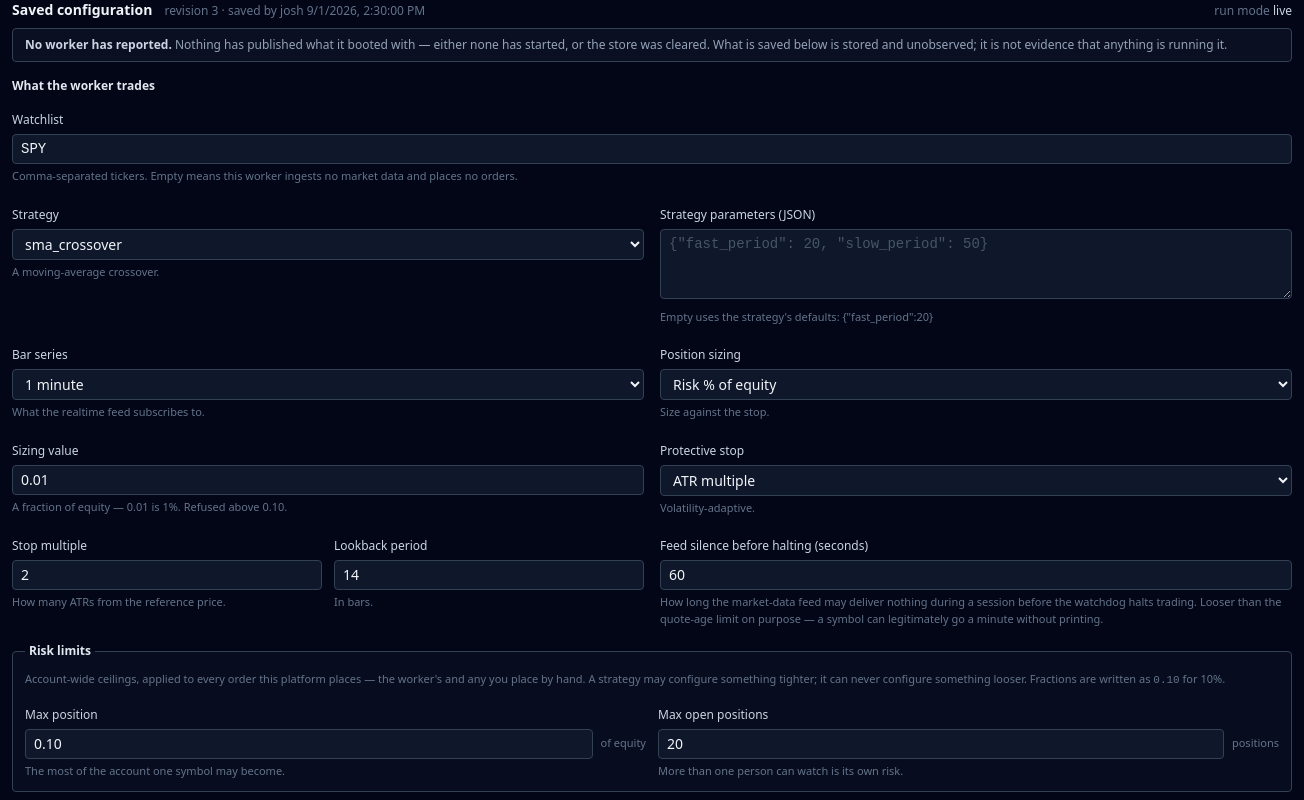
Test: the risk limits › refuses an emptied box by name rather than posting an empty string
The image size is (1304, 800).
Clear the field labelled "Max open positions": (941, 744) [658,728,1224,758]
(page scrolled)
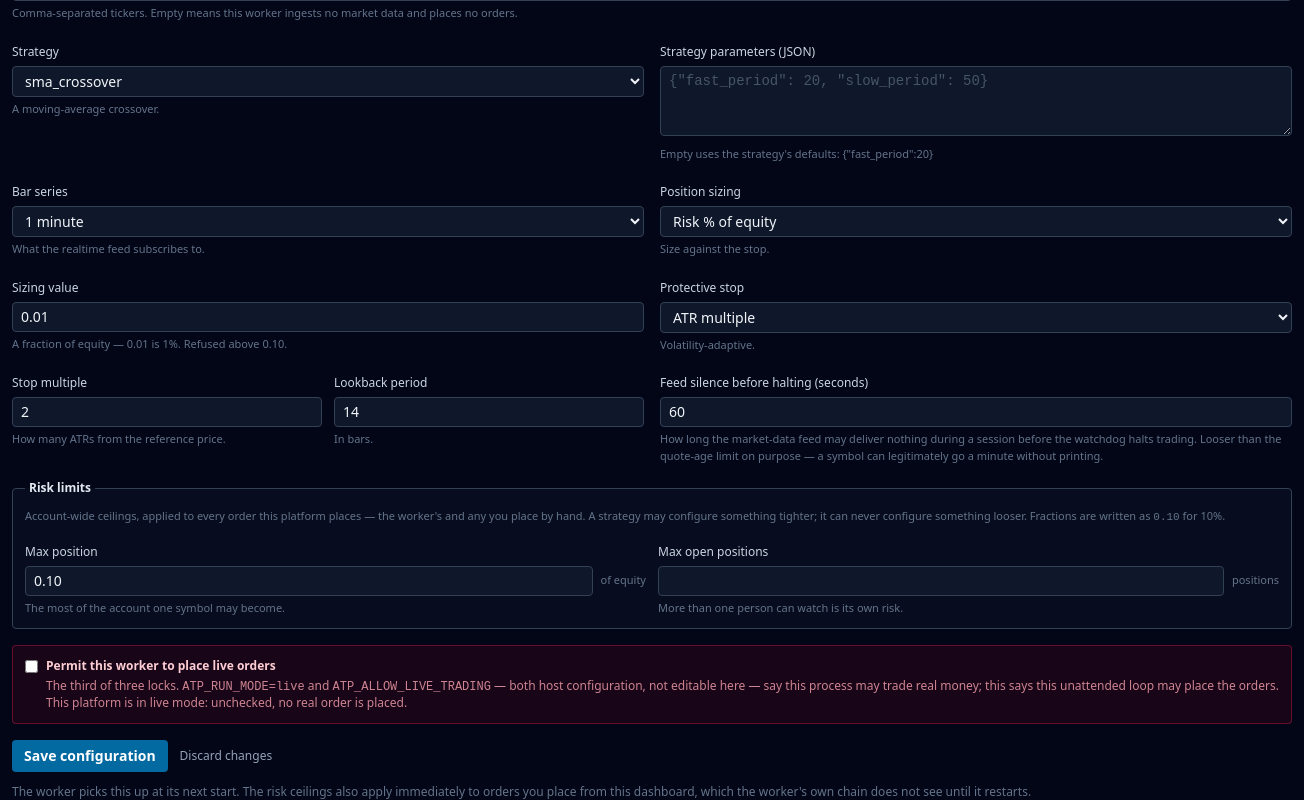
Click the button "Save configuration": (90, 756) [12,740,168,772]
(page scrolled)
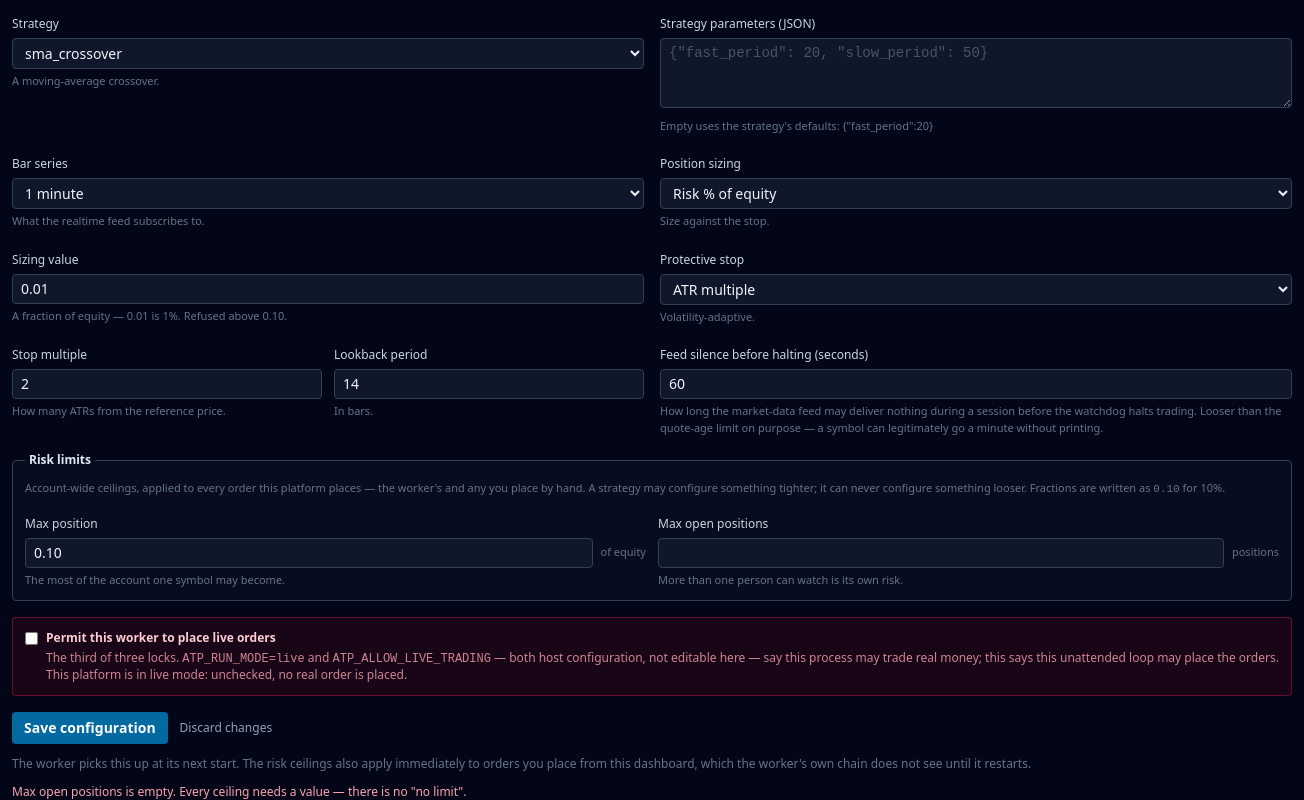
Check: the text "Max open positions is empty" is shown, box [12,783,466,799]
